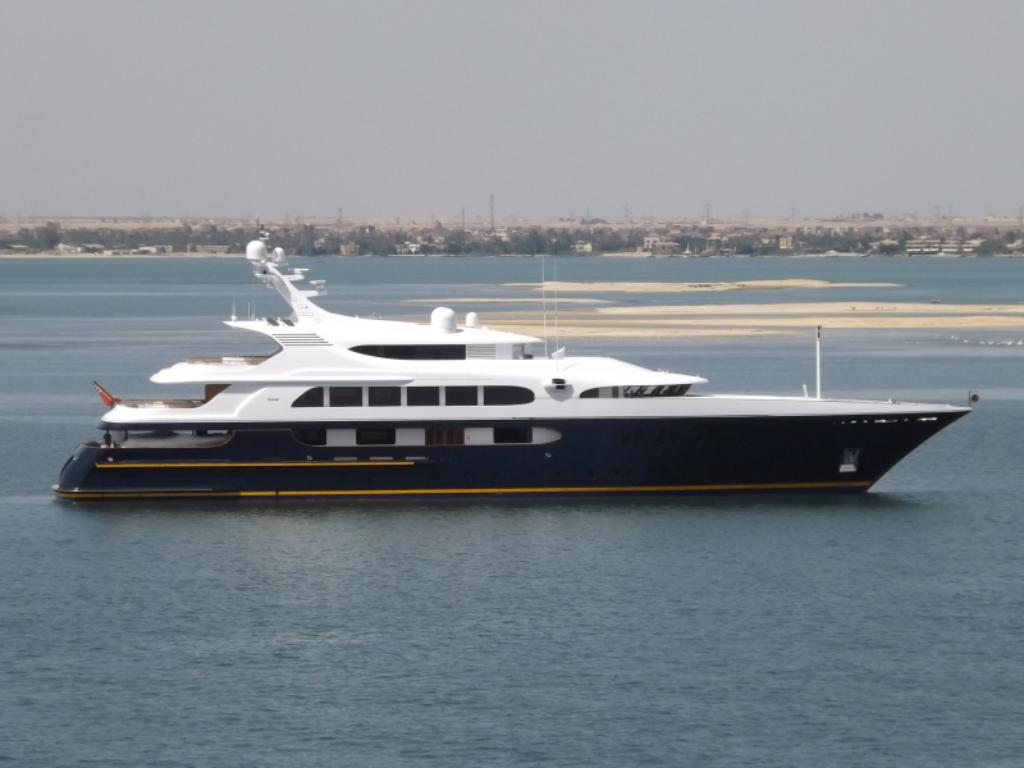PassengerShip: (52, 238, 980, 506)
